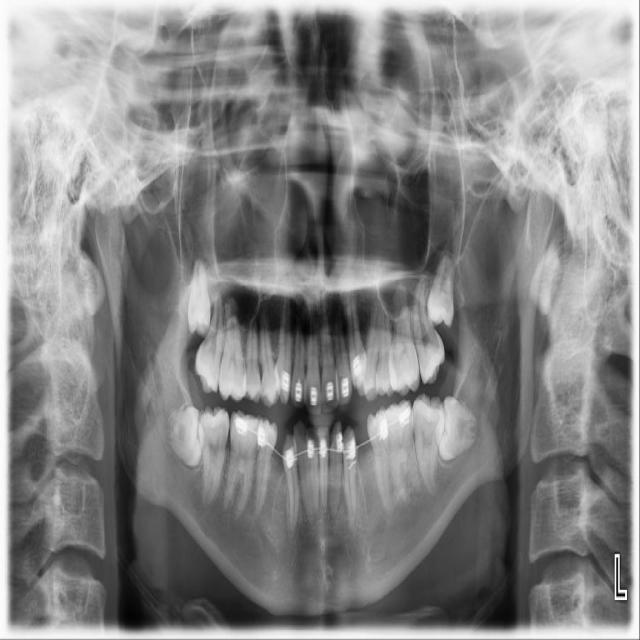impacted tooth: (438, 395, 480, 462), (166, 405, 202, 468), (427, 254, 454, 328), (188, 261, 211, 335)
